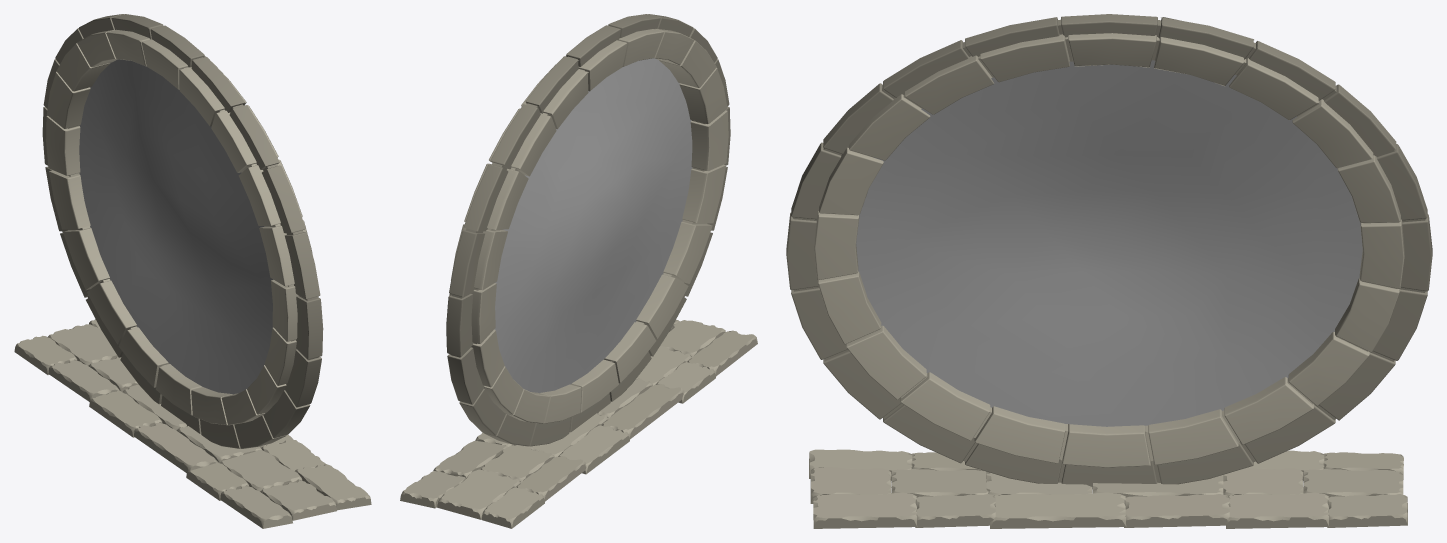
The model's file is portal.fbx.
The picture shows the model from 3 angles, left to right: view 1: azimuth 30°, elevation 25°; view 2: azimuth 150°, elevation 25°; view 3: azimuth 270°, elevation 25°; orthographic projection. The views are drawn at different scales.
Parts seen in each view (by area): view 1: pDisc1, pasted__pasted__polySurface44 (×2), pasted__polySurface59, pasted__polySurface58, pasted__polySurface52; view 2: pDisc1, pasted__pasted__polySurface44 (×2), pasted__polySurface52, pasted__polySurface58, pasted__polySurface59; view 3: pDisc1, pasted__pasted__polySurface44 (×2), pasted__polySurface59, pasted__polySurface52, pasted__polySurface58.
Part boxes in pixels (bbox=[...]): pDisc1: bbox=[79, 59, 273, 394]; pasted__pasted__polySurface44 (×2): bbox=[42, 14, 323, 448]; pasted__polySurface59: bbox=[186, 439, 371, 528]; pasted__polySurface58: bbox=[89, 384, 292, 472]; pasted__polySurface52: bbox=[14, 319, 138, 401]; pDisc1: bbox=[494, 58, 692, 393]; pasted__pasted__polySurface44 (×2): bbox=[446, 14, 730, 446]; pasted__polySurface52: bbox=[400, 440, 586, 528]; pasted__polySurface58: bbox=[475, 378, 684, 474]; pasted__polySurface59: bbox=[636, 319, 757, 403]; pDisc1: bbox=[856, 60, 1362, 426]; pasted__pasted__polySurface44 (×2): bbox=[786, 14, 1432, 488]; pasted__polySurface59: bbox=[809, 449, 995, 528]; pasted__polySurface52: bbox=[1223, 450, 1407, 528]; pasted__polySurface58: bbox=[986, 471, 1229, 528].
Size of the model in its own units: 3.81 by 12.83 by 15.97.
